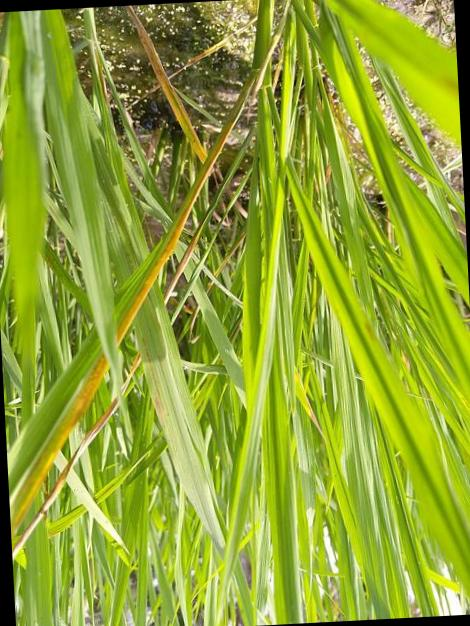Leaf Streak: (117, 79, 253, 343), (9, 352, 110, 540), (12, 396, 118, 561), (164, 234, 197, 304), (121, 350, 142, 398)
